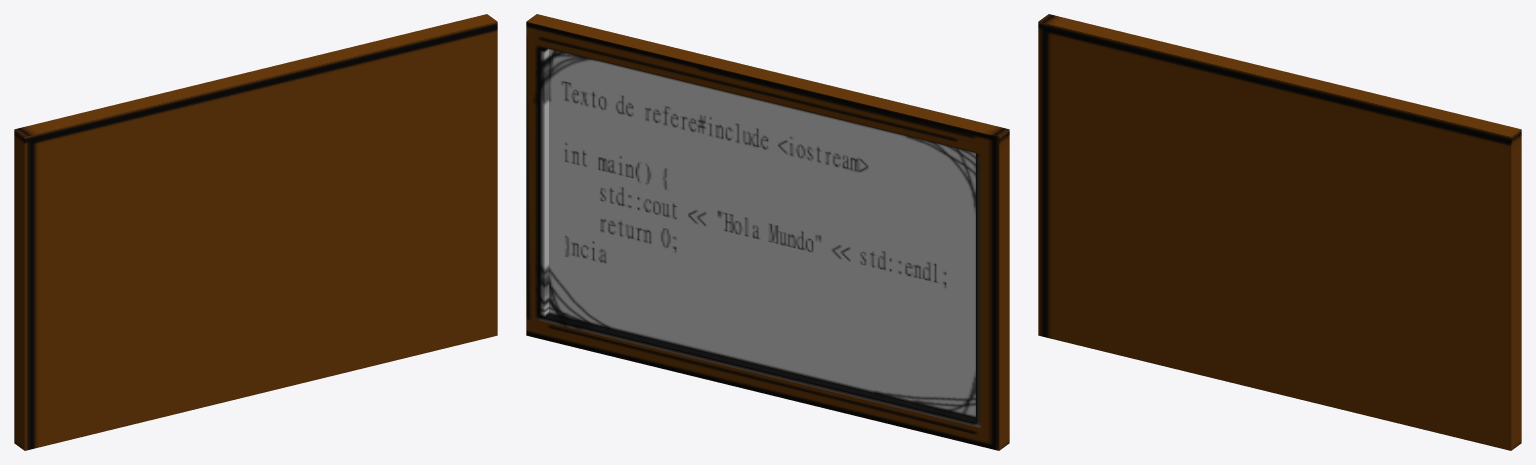
The model's file is TABLERO.fbx.
3 renders of one model, left to right at view 1: azimuth 30°, elevation 25°; view 2: azimuth 150°, elevation 25°; view 3: azimuth 330°, elevation 25°, orthographic.
Parts seen in each view (by area): view 1: pCube15; view 2: pCube15; view 3: pCube15.
Boxes of the visible parts, bbox=[...] form: pCube15: bbox=[14, 14, 497, 450]; pCube15: bbox=[526, 14, 1009, 450]; pCube15: bbox=[1038, 14, 1521, 450].
Size of the model in its own units: 40.09 by 25.43 by 1.55.
